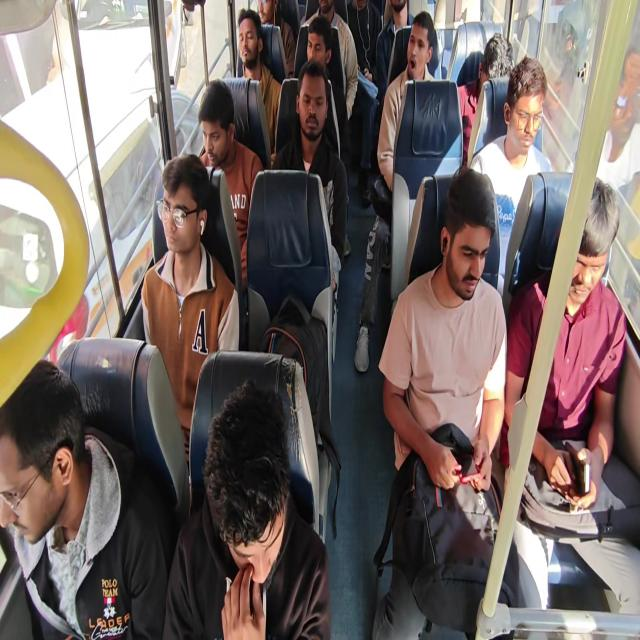person: (372, 165, 510, 638), (499, 176, 638, 613), (0, 359, 169, 638), (162, 379, 332, 639), (140, 153, 240, 468), (354, 10, 436, 372), (469, 55, 554, 292), (270, 60, 348, 296), (567, 44, 639, 268), (197, 79, 264, 295), (376, 10, 436, 192), (338, 0, 382, 206), (456, 32, 514, 166), (300, 0, 359, 121), (236, 8, 282, 152), (375, 1, 413, 100), (345, 0, 382, 82), (257, 0, 295, 78)
